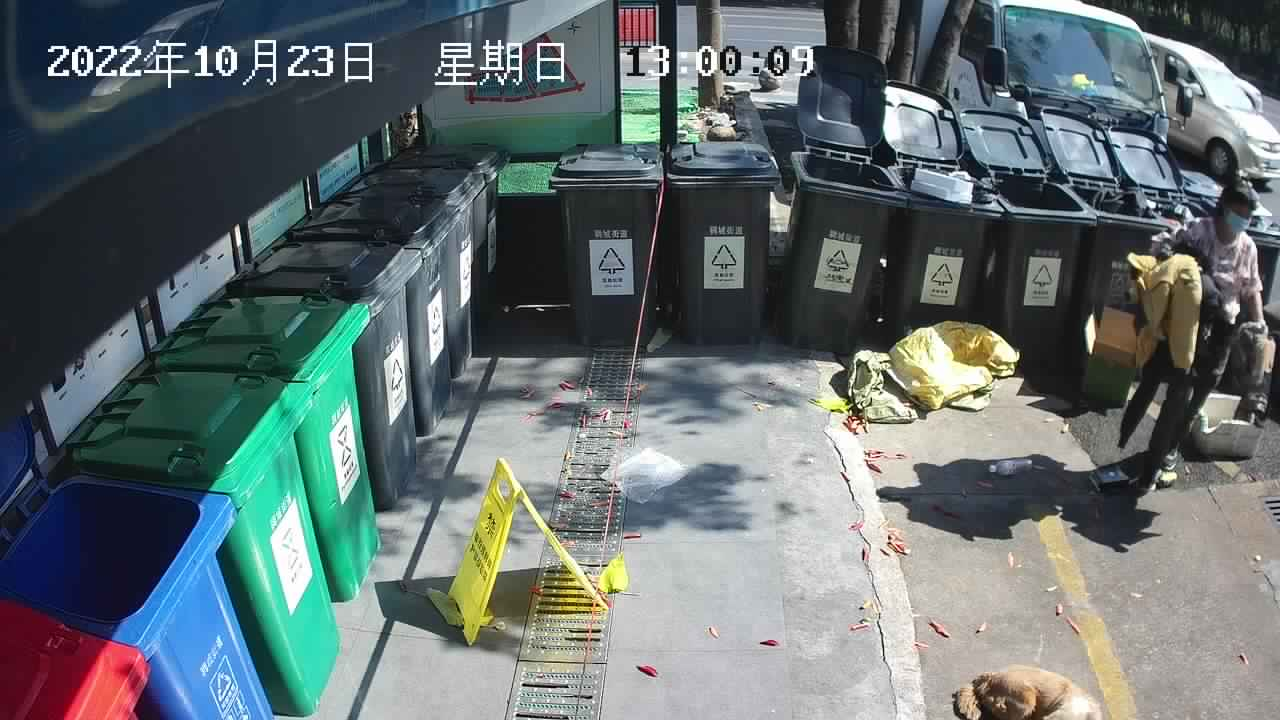garbage-bag: (841, 314, 1029, 429)
person: (1124, 176, 1280, 503)
suliaozhipin: (981, 456, 1038, 476)
zhizhipin: (1080, 303, 1150, 415), (1087, 461, 1141, 495)
